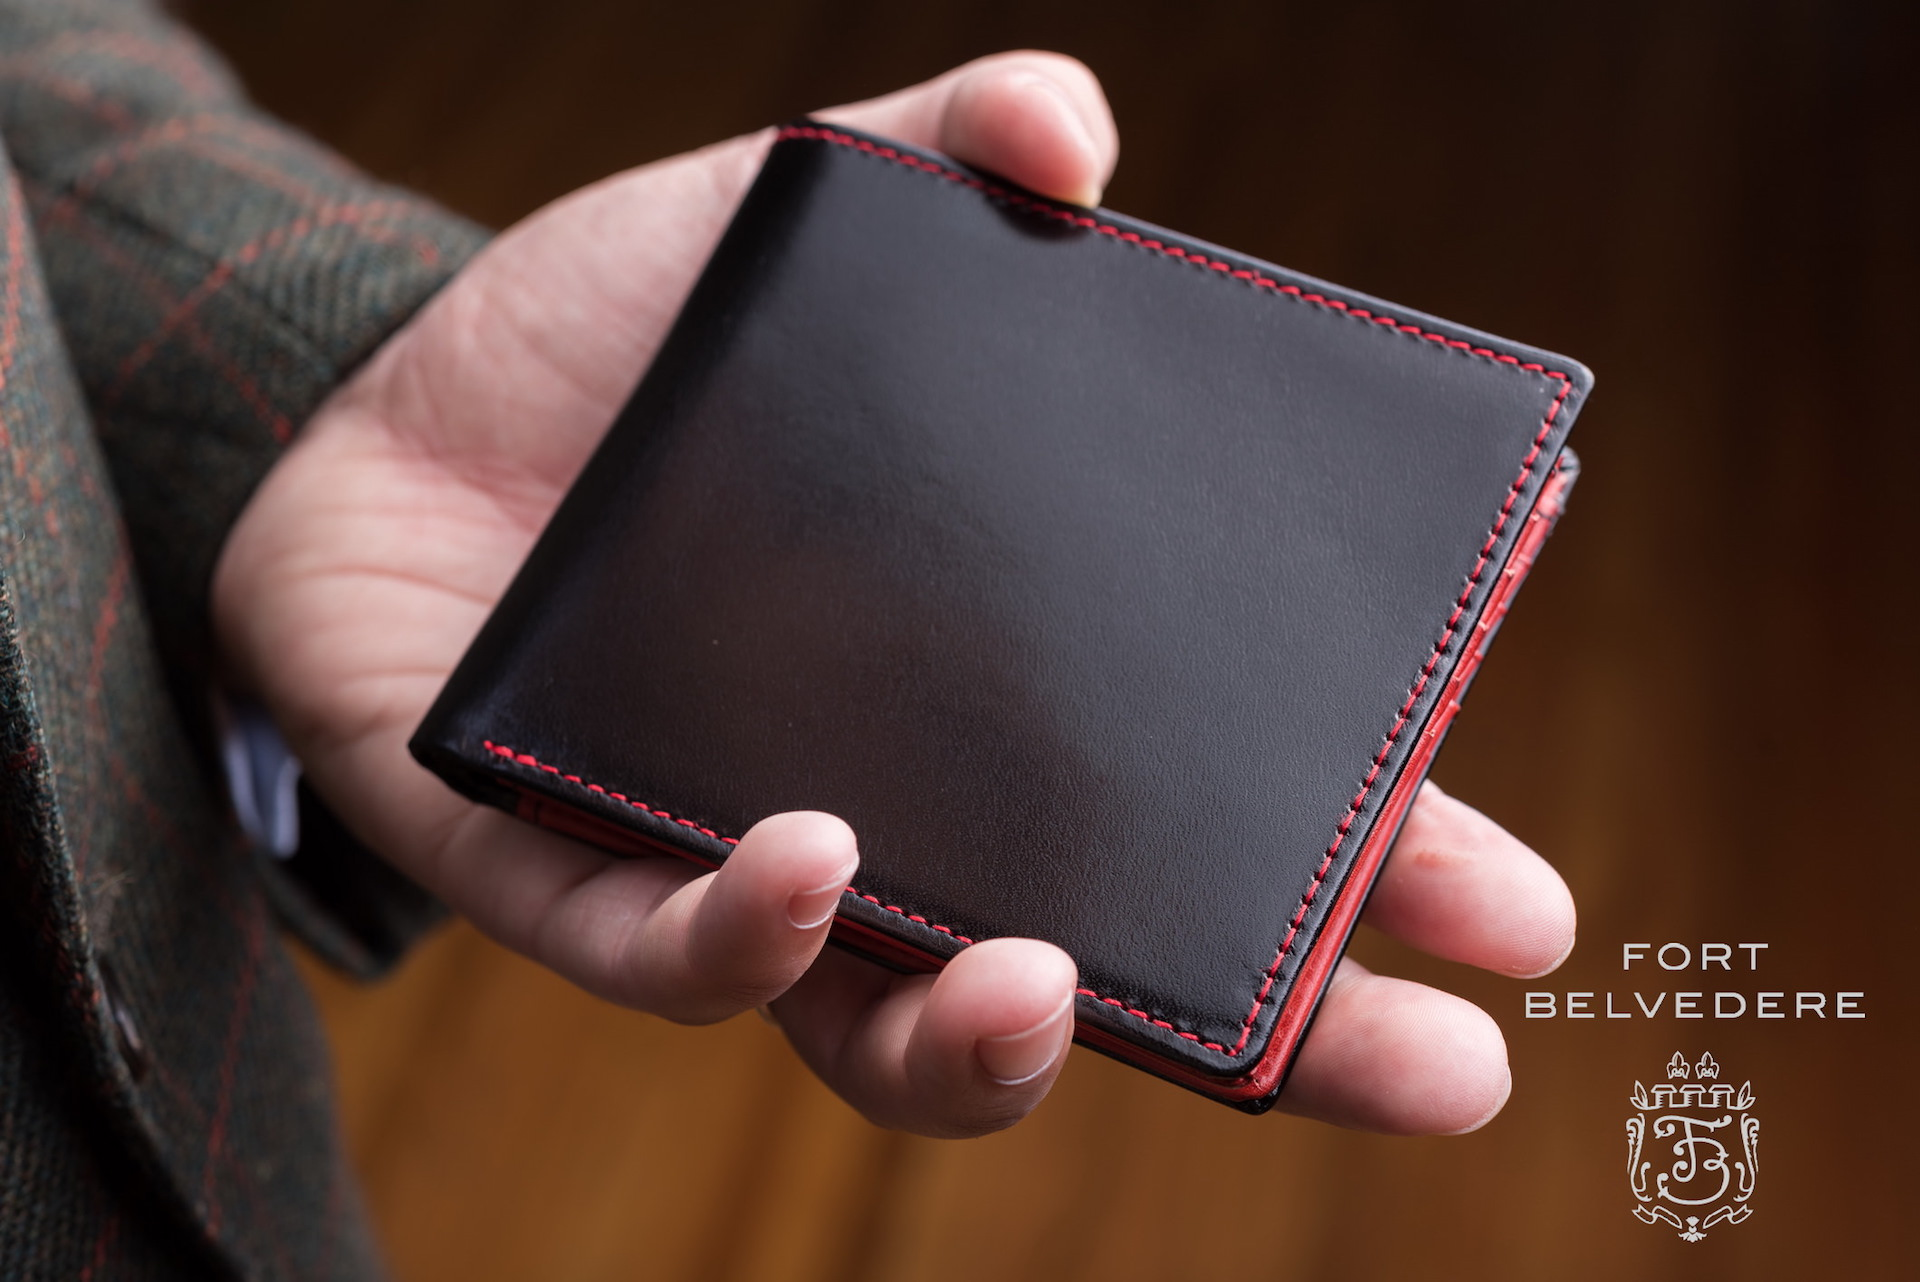monedero: (395, 99, 1604, 1130)
